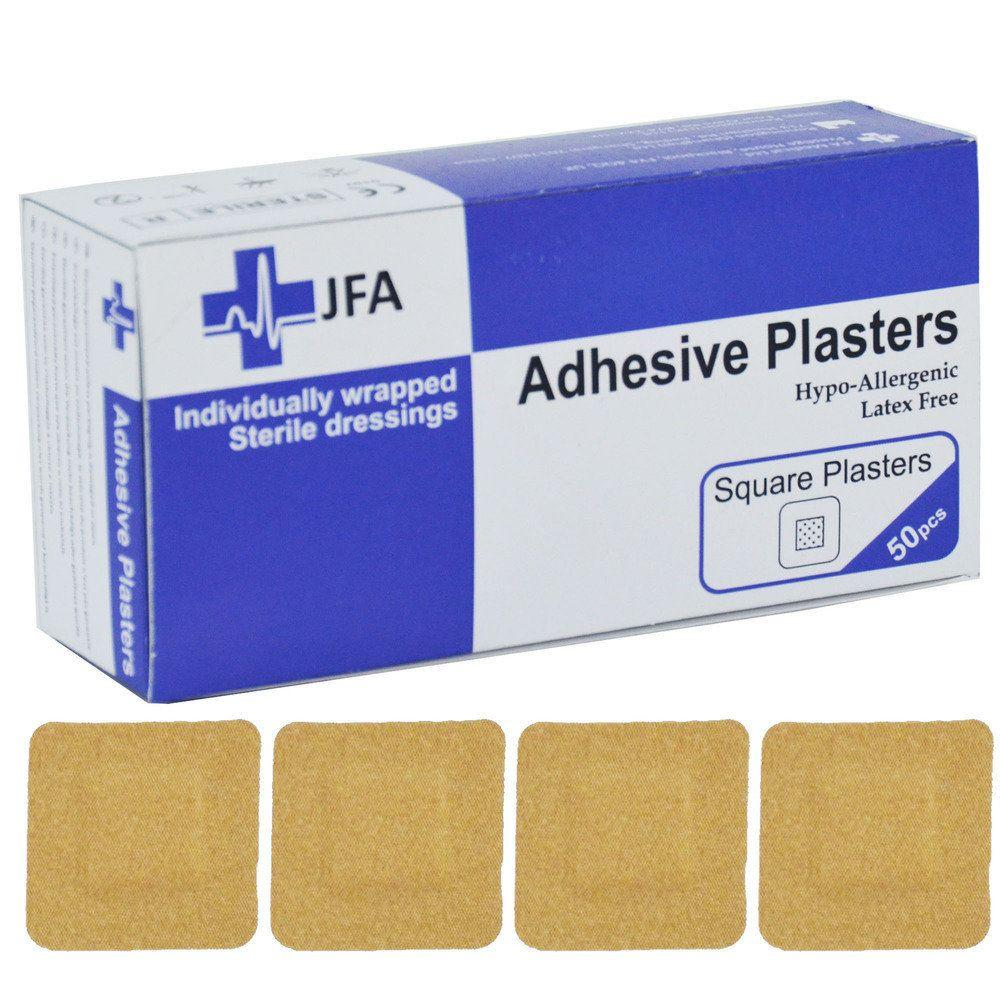bandage: (762, 716, 991, 953), (272, 720, 504, 952), (28, 718, 258, 952), (516, 726, 749, 953), (776, 498, 837, 569)
